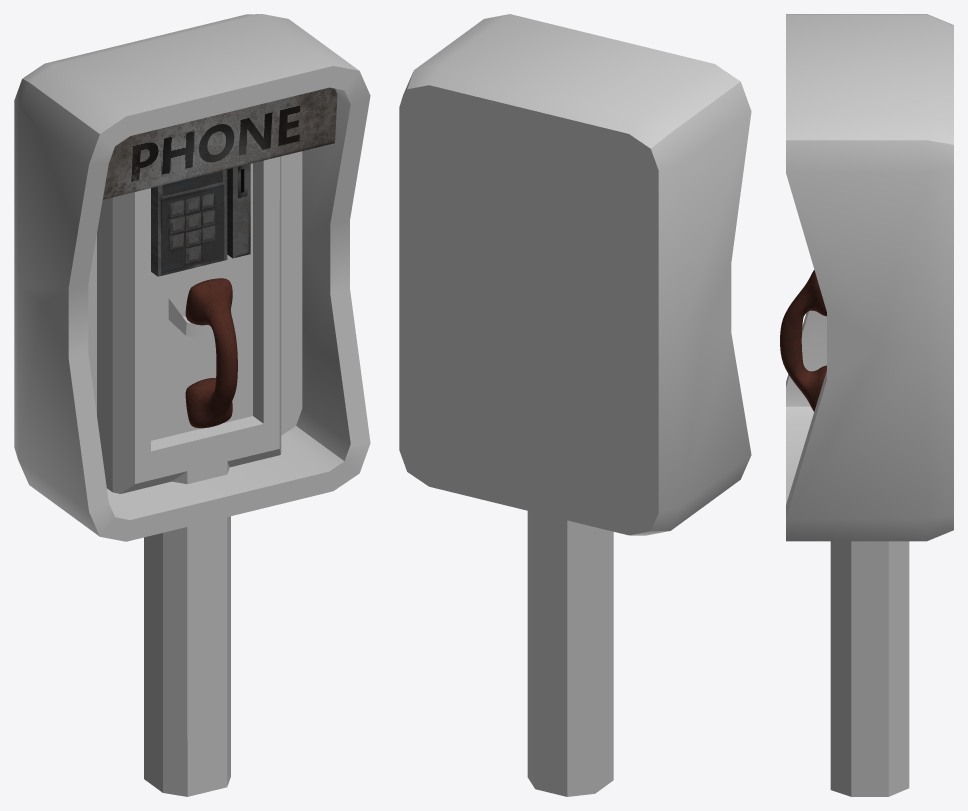
File: Payphone.fbx
3 views of the same model, side by side, from view 1: azimuth 30°, elevation 25°; view 2: azimuth 150°, elevation 25°; view 3: azimuth 270°, elevation 25° (orthographic).
Parts seen in each view (by area): view 1: Cube, Cube.004, Cube.002; view 2: Cube; view 3: Cube, Cube.002.
Part boxes in pixels (x1=…): Cube: x1=14, y1=14, x2=370, y2=796; Cube.004: x1=102, y1=87, x2=337, y2=276; Cube.002: x1=185, y1=278, x2=237, y2=428; Cube: x1=399, y1=14, x2=751, y2=796; Cube: x1=786, y1=14, x2=953, y2=796; Cube.002: x1=780, y1=270, x2=826, y2=411.
Size of the model in its own units: 145 by 352 by 77.7.
